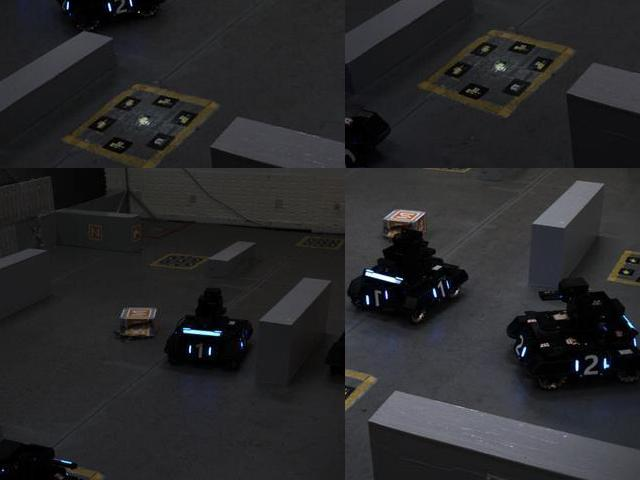armor: (572, 350, 612, 377), (362, 283, 395, 312), (101, 0, 144, 18), (509, 327, 530, 363), (183, 340, 215, 362), (427, 275, 454, 301), (345, 144, 369, 167), (53, 0, 76, 19)
